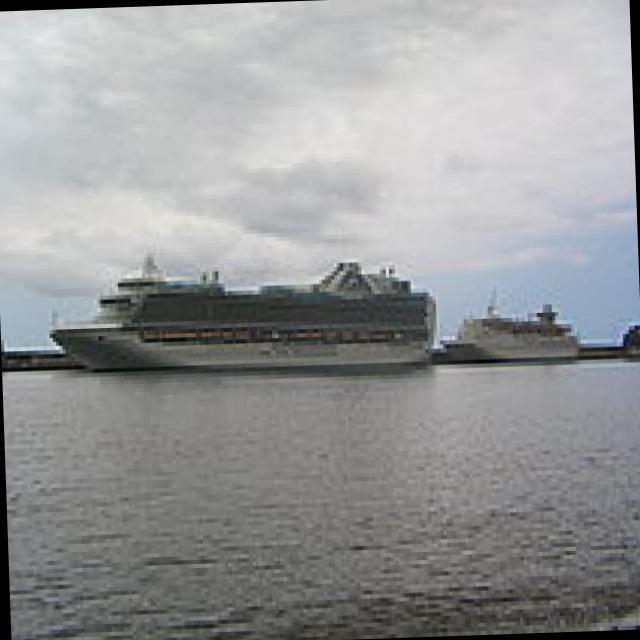boat: (48, 258, 429, 396), (453, 290, 586, 370)
